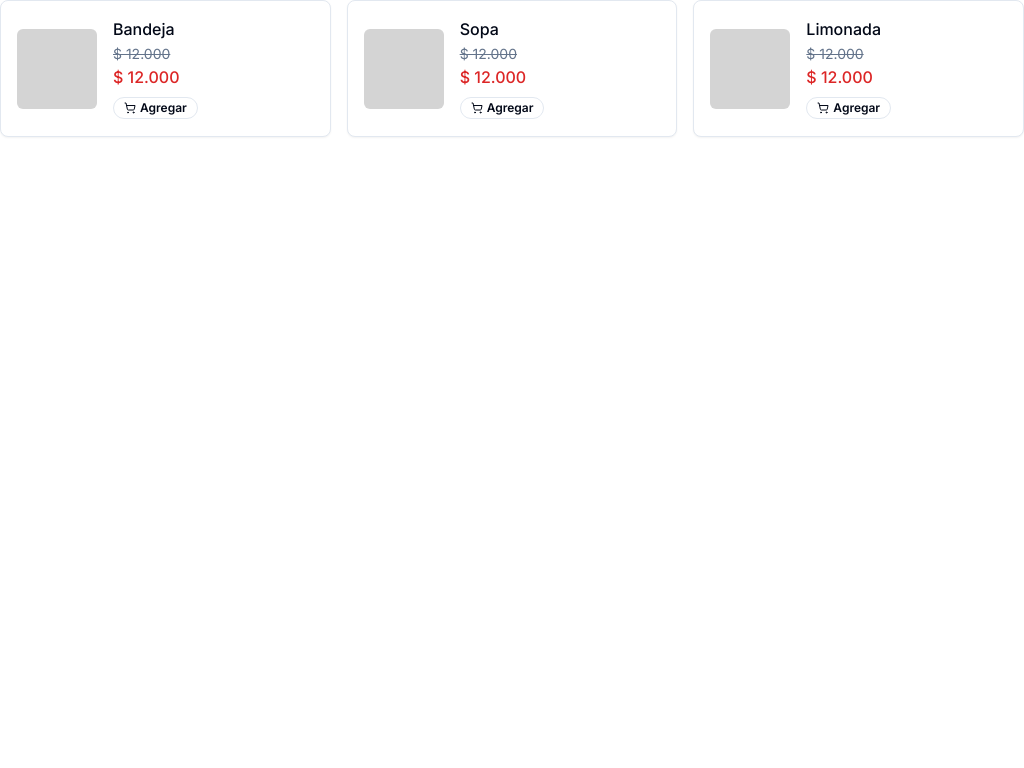
Scenario: DishGrid — existing behavior (preserve) › opens the comments dialog on right click and adds the dish with the comment
Later steps or results of the test are not shown.
Right-click the heading "Bandeja" at (144, 29), box [113,19,175,39]
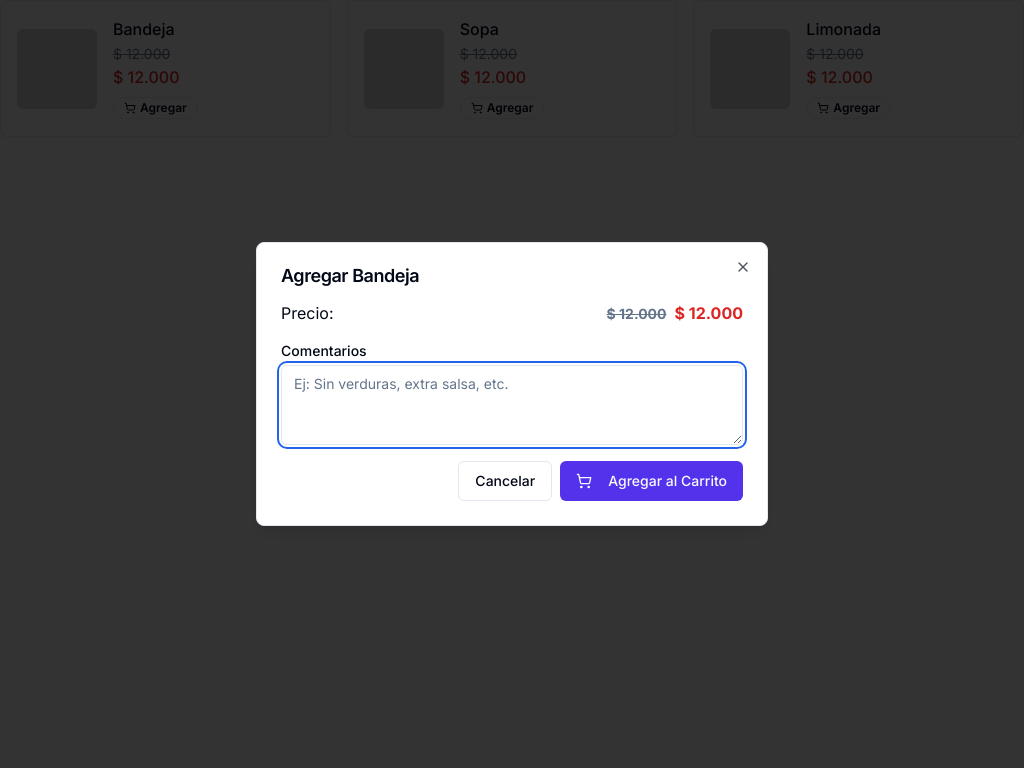
Now the dialog is shown, box [256,242,768,526]
